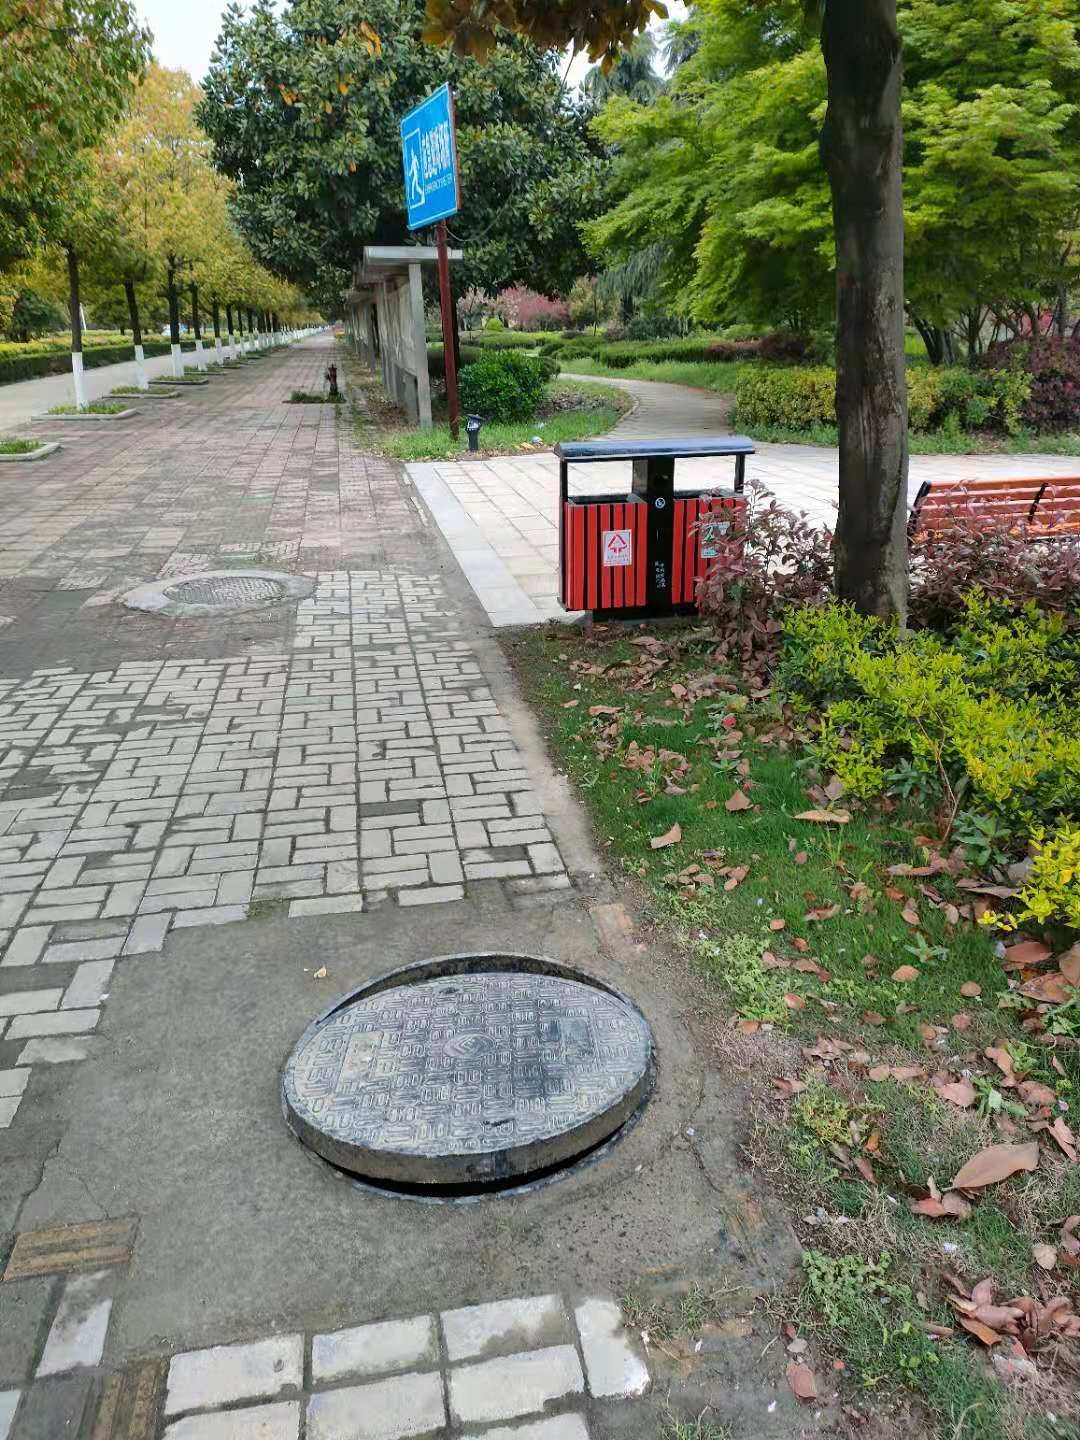well: (279, 951, 660, 1201), (145, 570, 296, 612)
